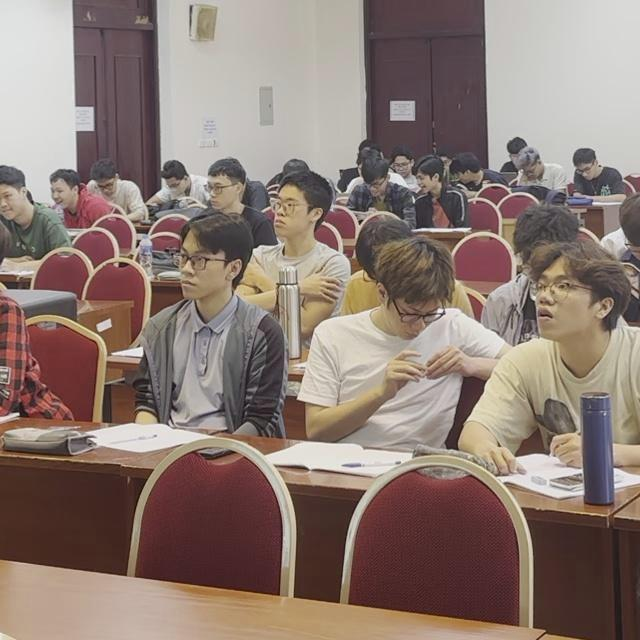Looking away: (385, 291, 444, 341), (0, 185, 24, 220), (162, 175, 186, 200), (49, 182, 71, 208), (518, 158, 540, 184), (576, 158, 597, 183), (95, 177, 120, 197), (366, 175, 388, 197), (453, 166, 474, 187), (393, 157, 412, 180), (413, 169, 431, 192)
Looking forward: (530, 274, 590, 341), (176, 245, 227, 301), (271, 189, 307, 238), (202, 176, 234, 210)
